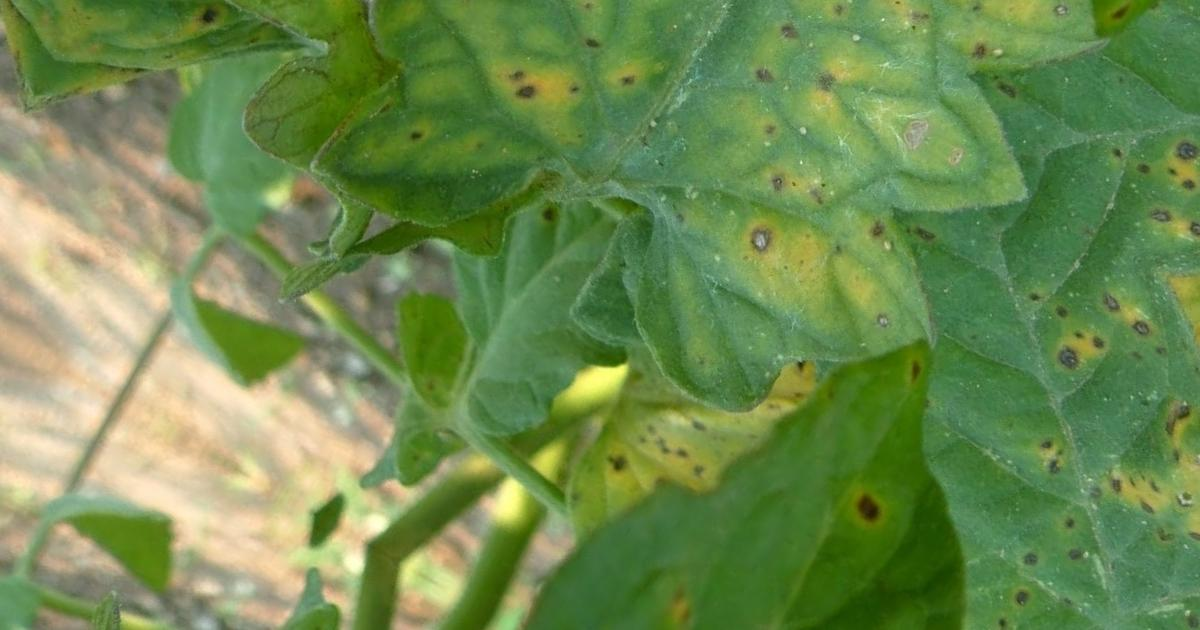Tomato Septoria leaf spot: (249, 0, 1027, 493)
